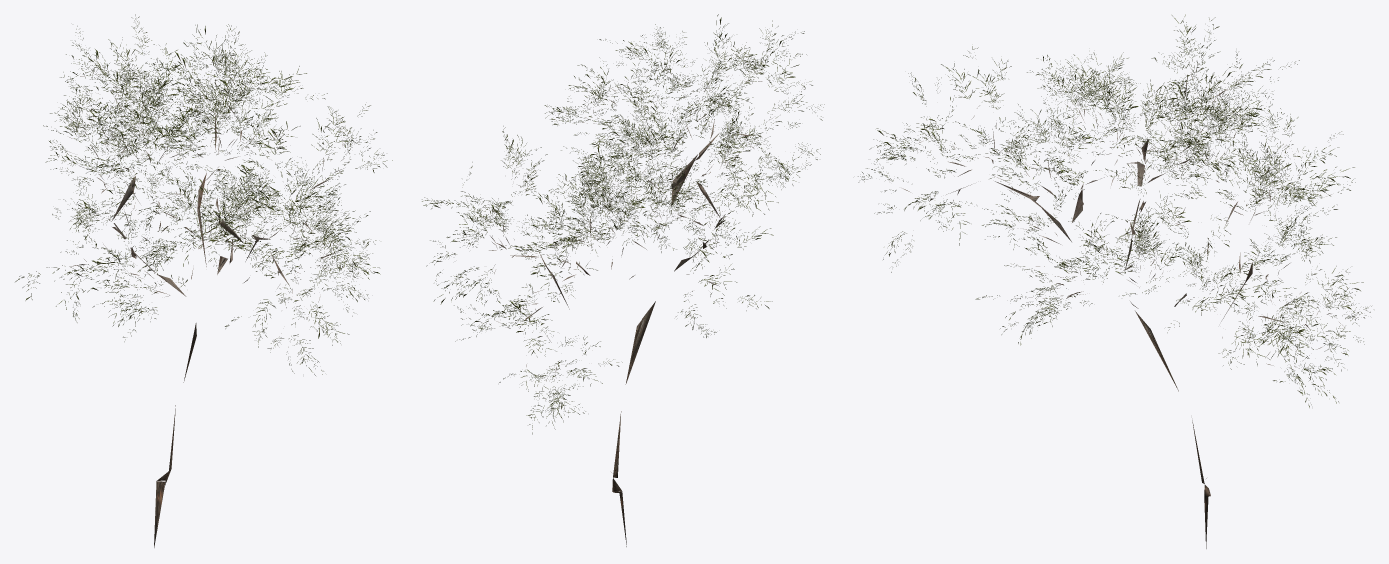
File: broadleaf.glb
3 renders of one model, left to right at view 1: azimuth 30°, elevation 25°; view 2: azimuth 150°, elevation 25°; view 3: azimuth 270°, elevation 25°, orthographic. The views are drawn at different scales.
Parts seen in each view (by area): view 1: broadleaf; view 2: broadleaf; view 3: broadleaf.
Part boxes in pixels (x1,y1,x2,y2): broadleaf: (15,14,392,547); broadleaf: (422,14,824,546); broadleaf: (858,14,1371,548).
Bounding box in the file's own units: 2.87 × 4.5 × 4.27.
Materials: 3 (3 with a texture image).
